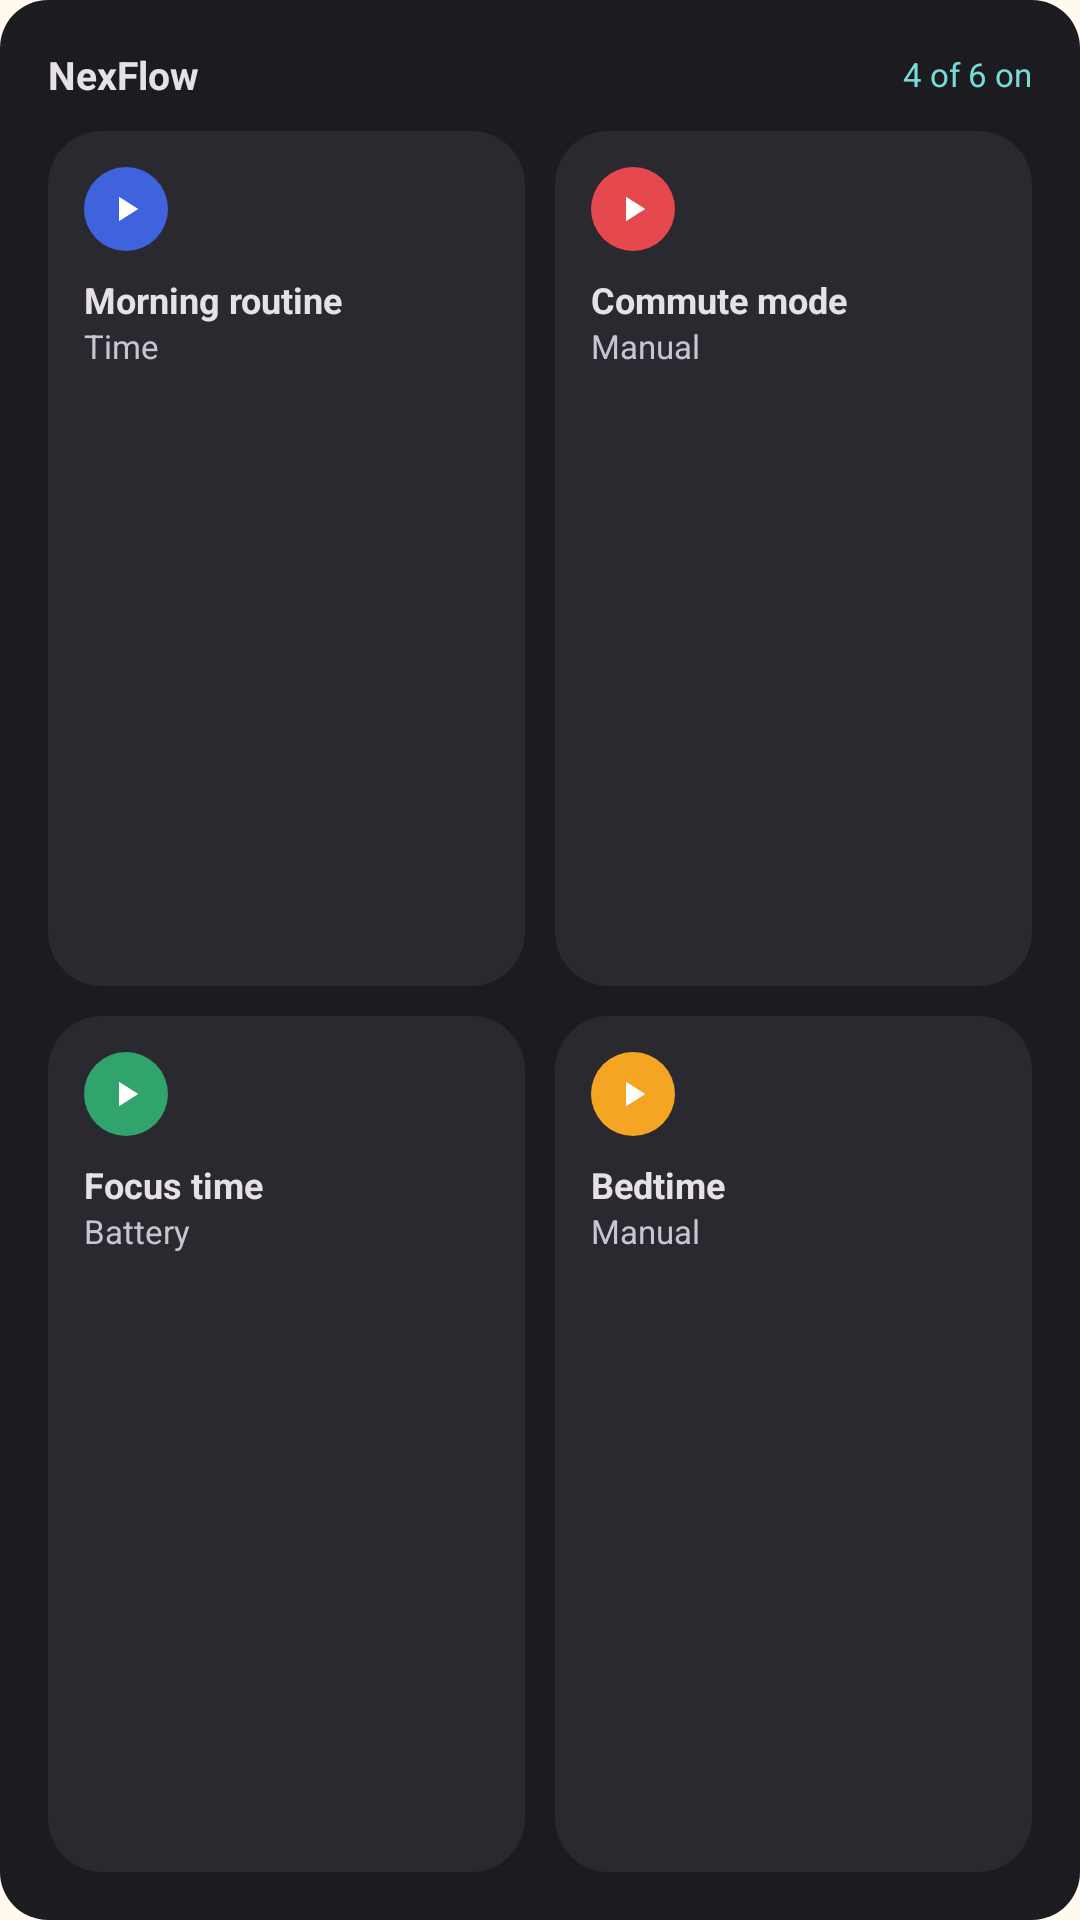

Icon click points for this 1080*1920 phone screenshot, format (x=x, y=y):
play: (x=126, y=209), (x=633, y=209), (x=126, y=1094), (x=633, y=1094)
